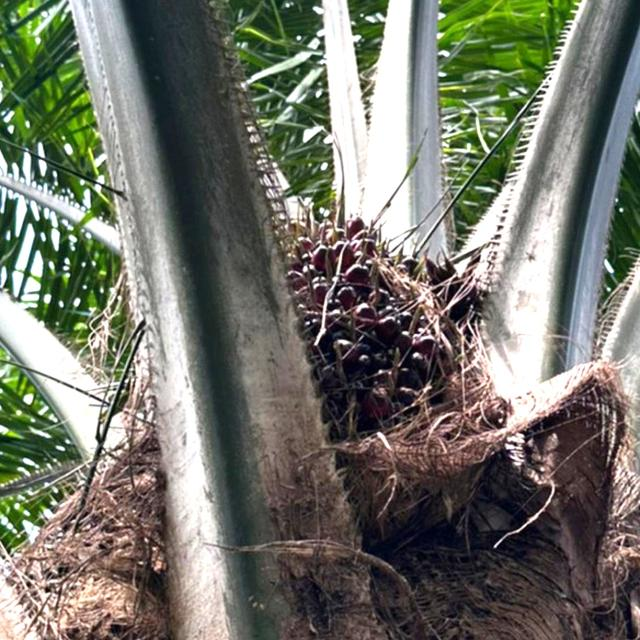ripe: (260, 202, 526, 449)
